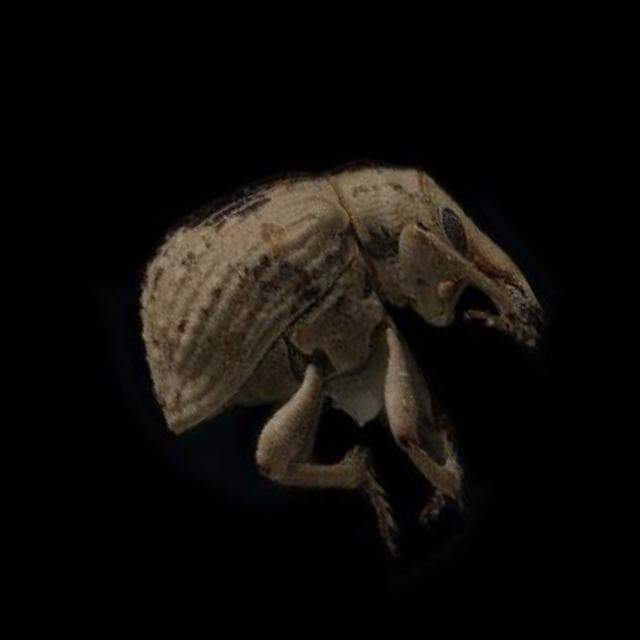rice-bug: (80, 82, 590, 580)
